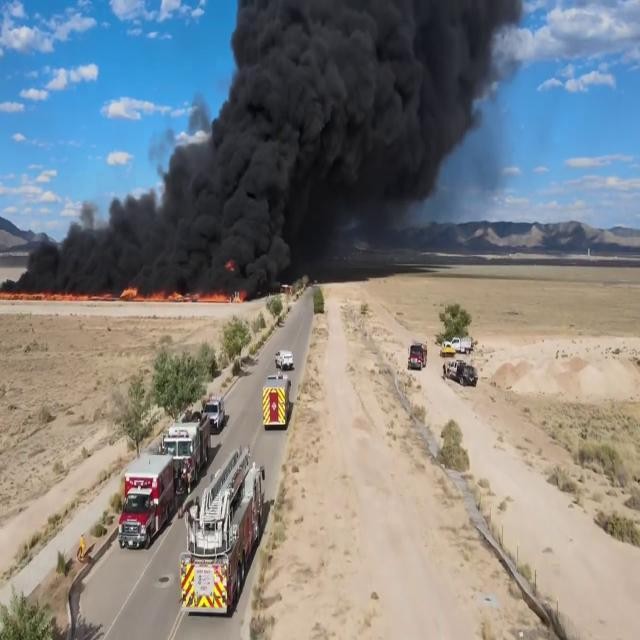Smoke: (39, 0, 523, 294)
